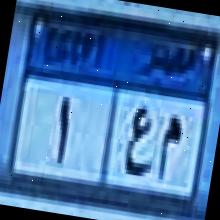1: (48, 85, 78, 169)
ain: (120, 103, 160, 181)
meem: (152, 107, 186, 186)
